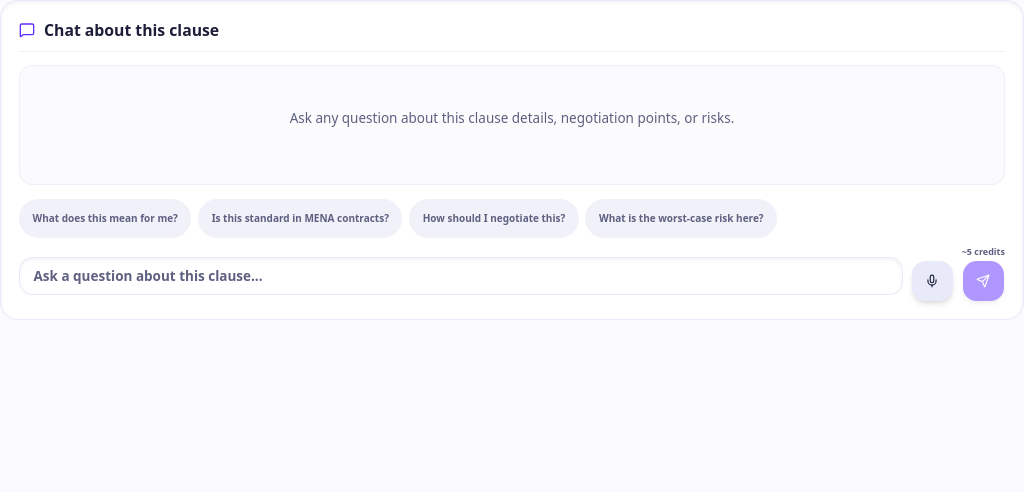
ClauseChat Component › propagates historical messages in subsequent API requests
// Message 1
Type "Question 1" into the text box with placeholder "Ask a question about this clause..." at (461, 276), box [19,257,903,295]
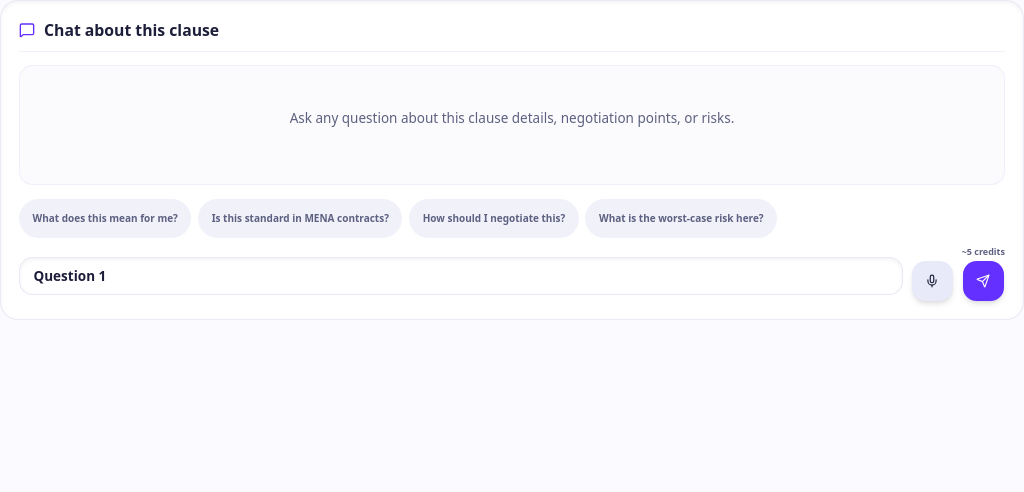
Click the button named "Send" at (983, 281), box [963,261,1004,301]
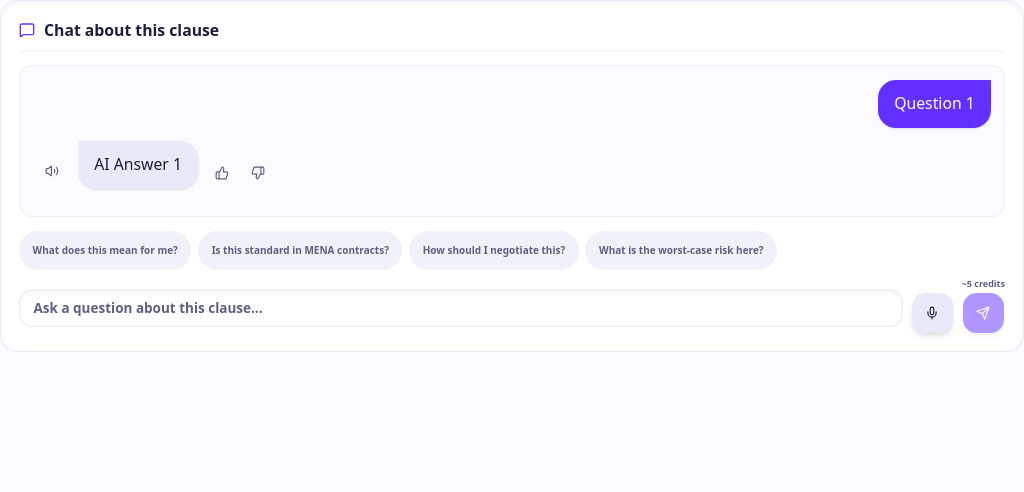
Now the text "AI Answer 1" is shown, box [94,152,182,178]
// Message 2
Type "Question 2" into the text box with placeholder "Ask a question about this clause..." at (461, 308), box [19,289,903,327]
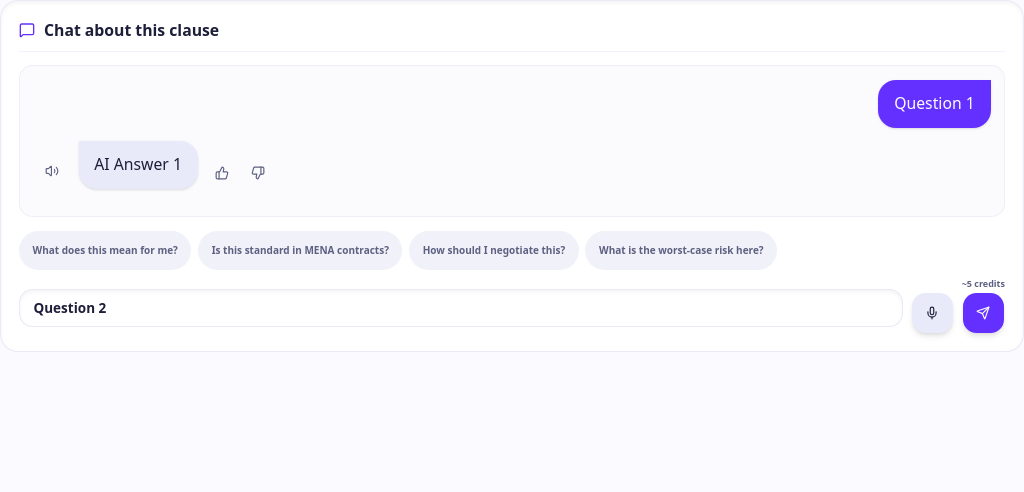
Click the button named "Send" at (983, 313), box [963,293,1004,333]
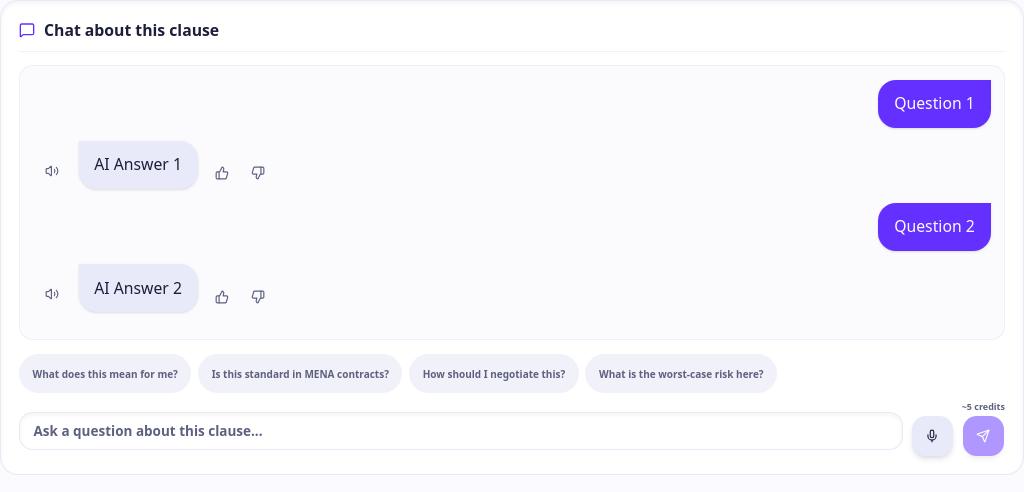
Now the text "AI Answer 2" is shown, box [94,276,182,301]
